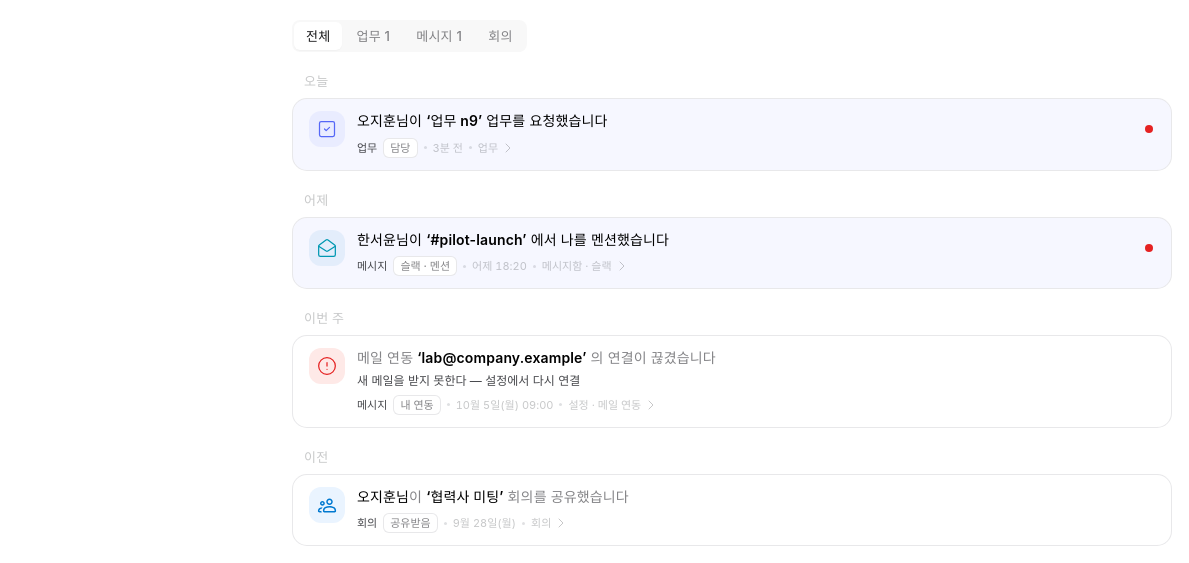
it: 알림 화면 — 기본 › 필터를 고르면 서버에 그 테마만 묻는다 · 테마 빈 문구(시안 EMPTY_BY_FILTER)
Check: the text "업무 n9" is shown, box [430,112,478,129]
Click the tab "회의" at (500, 36), box [476,22,525,50]
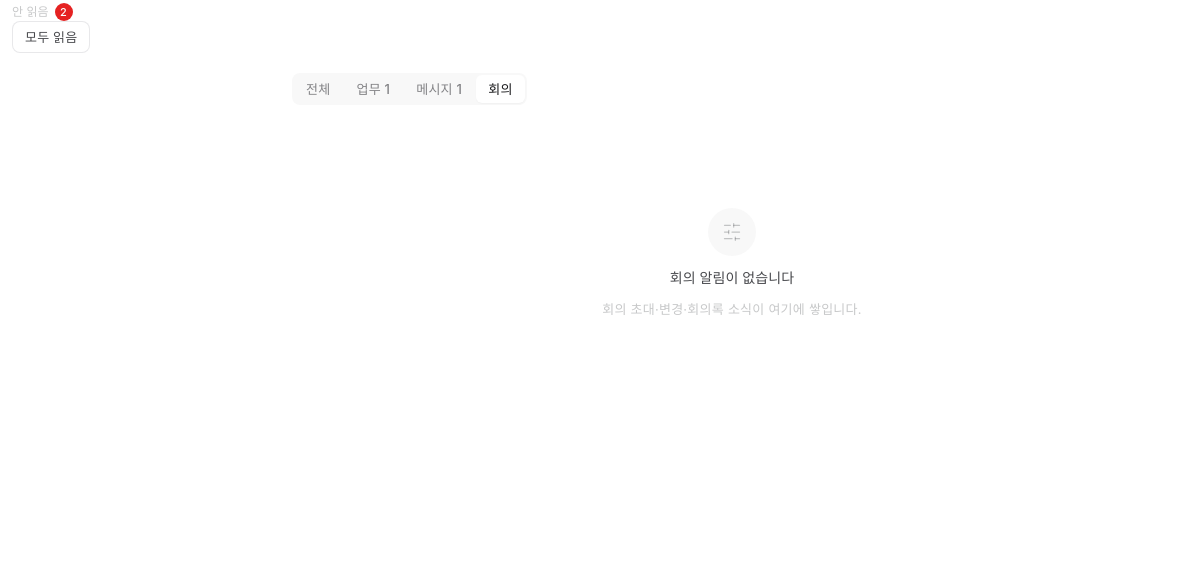
Check: the text "회의 알림이 없습니다" is shown, box [670,268,794,288]
Check: the text "회의 초대·변경·회의록 소식이 여기에 쌓입니다." is shown, box [602,300,862,318]
Check: the button "모두 읽음" is shown, box [12,21,90,53]
